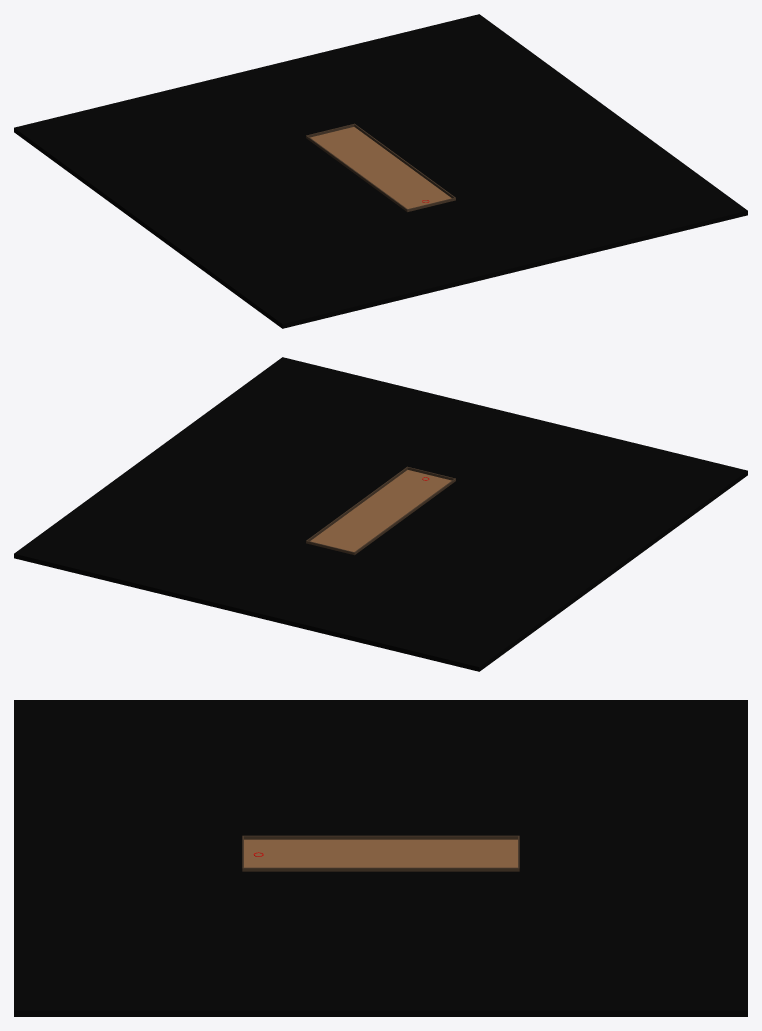
The model's file is petanque.fbx.
3 renders of one model, top to bottom at view 1: azimuth 30°, elevation 25°; view 2: azimuth 150°, elevation 25°; view 3: azimuth 270°, elevation 25°, orthographic. The views are drawn at different scales.
Parts seen in each view (by area): view 1: Cube; view 2: Cube; view 3: Cube.
Boxes of the visible parts, left/top/right/bottom form: Cube: left=14, top=14, right=747, bottom=328; Cube: left=14, top=357, right=747, bottom=671; Cube: left=14, top=700, right=747, bottom=1016.
Size of the model in its own units: 19059 by 276 by 19047.
